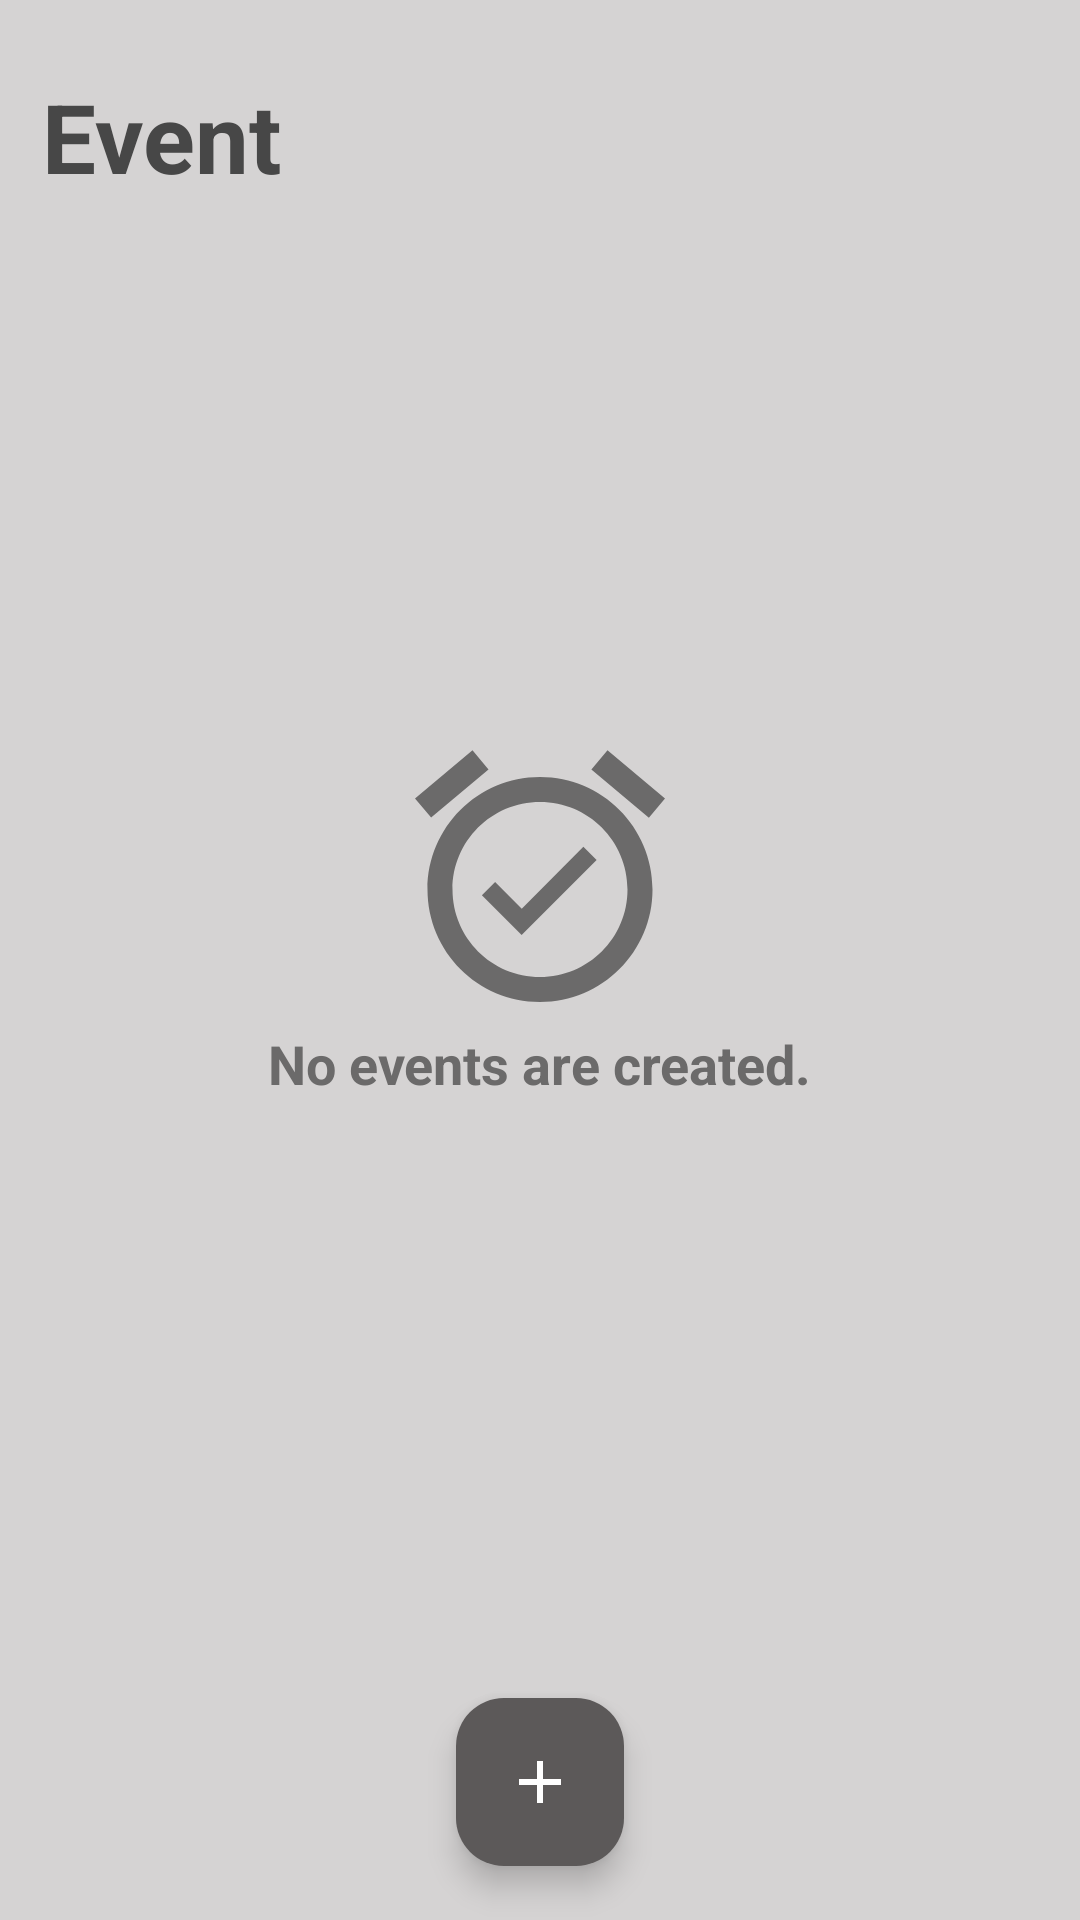

Named icons in this screenshot (1080px×1920px) and their bounding boxes, (x1, y1, x2, y2):
add: (456, 1698, 624, 1866)
